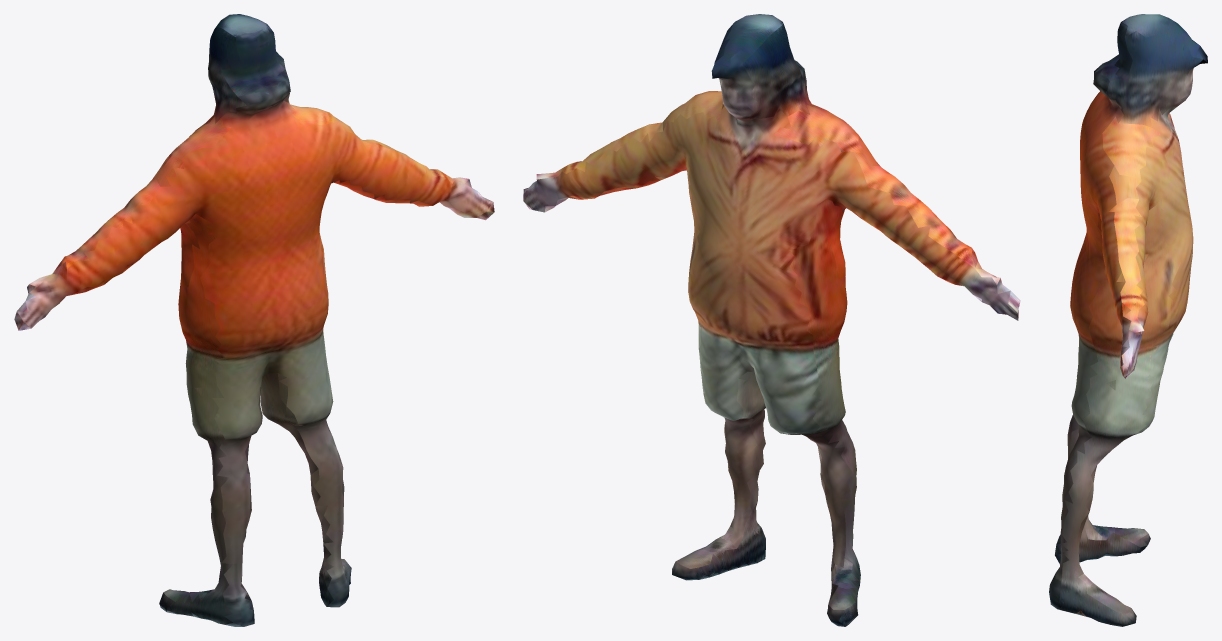
3 renders of one model, left to right at view 1: azimuth 30°, elevation 25°; view 2: azimuth 150°, elevation 25°; view 3: azimuth 270°, elevation 25°, orthographic. The views are drawn at different scales.
Parts seen in each view (by area): view 1: world; view 2: world; view 3: world.
Part boxes in pixels (left/top/right/bottom): world: left=14, top=14, right=494, bottom=626; world: left=523, top=14, right=1020, bottom=626; world: left=1049, top=14, right=1207, bottom=626.
Bounding box in the file's own units: 0.8789 × 0.9962 × 0.2526.
Materials: 1 (1 with a texture image).
